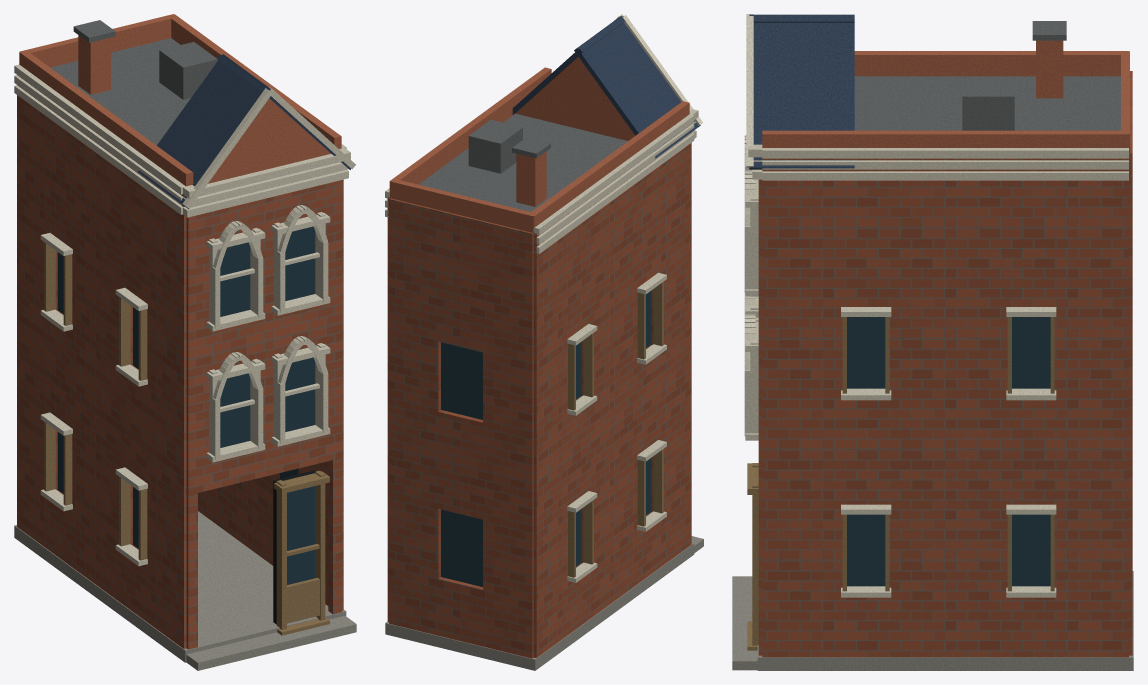
The model's file is VICT34_lod2.glb.
The picture shows the model from 3 angles, left to right: view 1: azimuth 30°, elevation 25°; view 2: azimuth 150°, elevation 25°; view 3: azimuth 270°, elevation 25°; orthographic projection. The views are drawn at different scales.
Parts seen in each view (by area): view 1: VICT34_LOD2; view 2: VICT34_LOD2; view 3: VICT34_LOD2.
Boxes of the visible parts, <box> form: VICT34_LOD2: <box>14,14,356,670</box>; VICT34_LOD2: <box>385,14,703,670</box>; VICT34_LOD2: <box>732,14,1133,670</box>.
Bounding box in the file's own units: 3.71 × 11.06 × 6.57.
9 materials, 7 textured.
